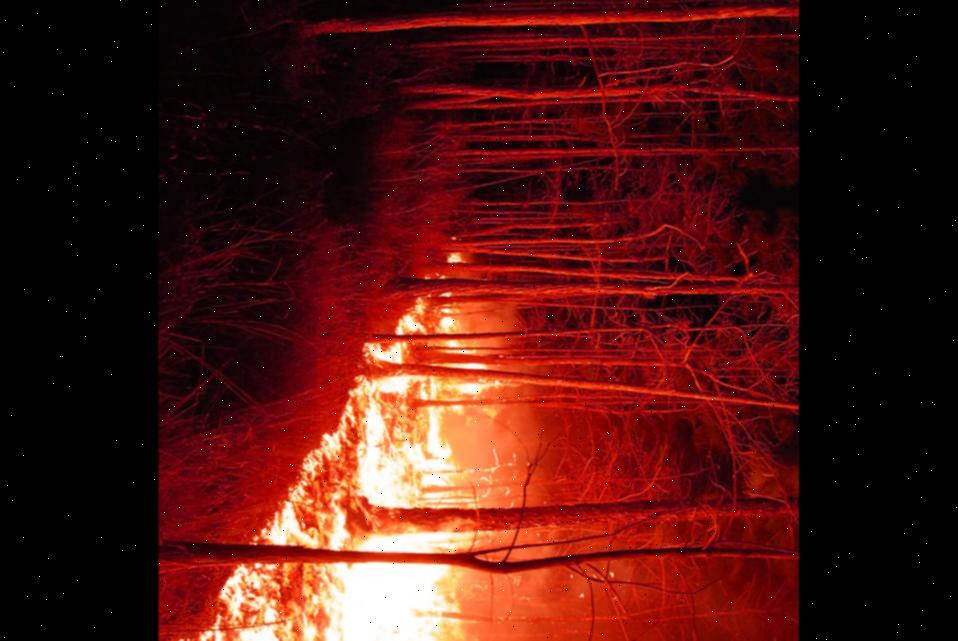fire: (158, 252, 508, 641)
